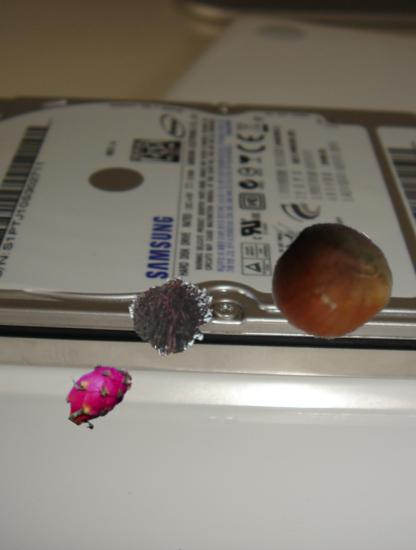Nut: (273, 224, 391, 342)
Pitahaya: (57, 355, 132, 430)
Rambutan: (130, 270, 222, 362)
